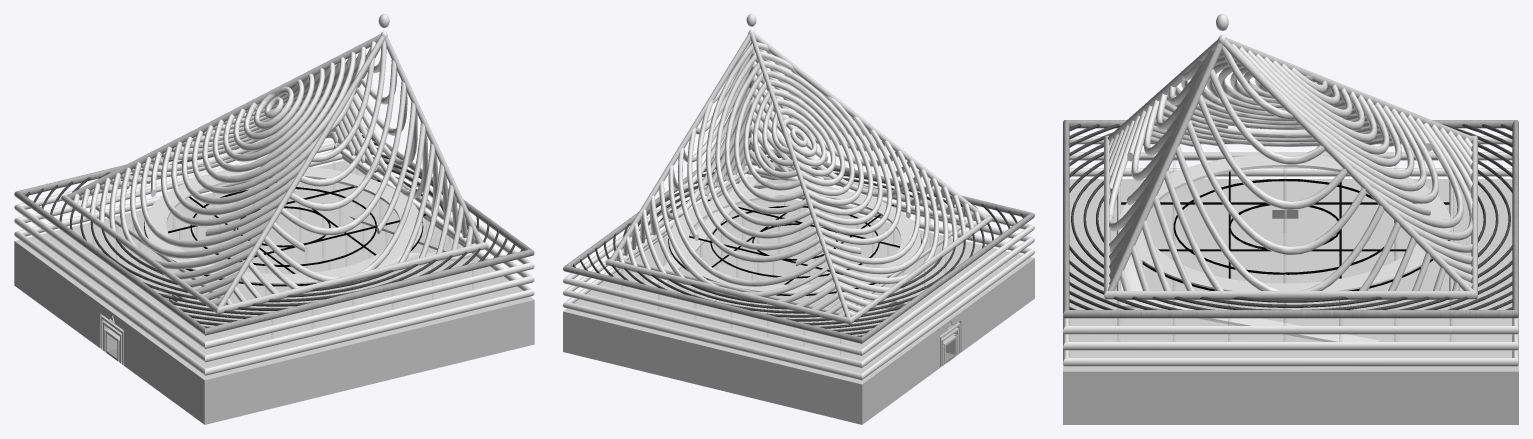
3 renders of one model, left to right at view 1: azimuth 30°, elevation 25°; view 2: azimuth 150°, elevation 25°; view 3: azimuth 270°, elevation 25°, orthographic. The views are drawn at different scales.
Parts seen in each view (by area): view 1: Merged Objects 4, kalin, PotbellyQ-Fu-with entrance-v0, Merged Objects 3, Merged Objects 1, Merged Objects; view 2: kalin, Merged Objects 4, PotbellyQ-Fu-with entrance-v0, Merged Objects 3, Merged Objects 1, Merged Objects; view 3: Merged Objects 4, kalin, PotbellyQ-Fu-with entrance-v0, Merged Objects 3, Merged Objects 1, Merged Objects.
Boxes of the visible parts, x1,y1,x2,y2 form: Merged Objects 4: [14, 34, 534, 424]; kalin: [14, 40, 534, 375]; PotbellyQ-Fu-with entrance-v0: [14, 14, 534, 335]; Merged Objects 3: [144, 166, 472, 284]; Merged Objects 1: [144, 177, 425, 286]; Merged Objects: [93, 156, 474, 338]; kalin: [563, 40, 1034, 380]; Merged Objects 4: [563, 33, 1034, 424]; PotbellyQ-Fu-with entrance-v0: [563, 14, 1034, 343]; Merged Objects 3: [651, 176, 920, 294]; Merged Objects 1: [666, 198, 921, 295]; Merged Objects: [622, 172, 946, 354]; Merged Objects 4: [1063, 37, 1518, 424]; kalin: [1063, 43, 1518, 366]; PotbellyQ-Fu-with entrance-v0: [1063, 14, 1518, 318]; Merged Objects 3: [1119, 154, 1450, 341]; Merged Objects 1: [1121, 171, 1449, 290]; Merged Objects: [1117, 159, 1452, 341].
Bounding box in the file's own units: 38.4 × 33.6 × 38.4.
Materials: 7 (1 with a texture image).
